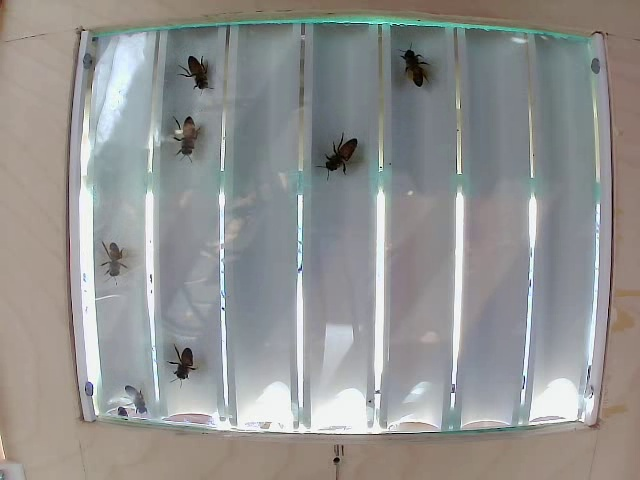bee: (311, 132, 369, 182), (171, 126, 211, 172), (93, 236, 127, 288), (397, 48, 435, 90), (167, 346, 203, 386), (180, 52, 218, 88)
